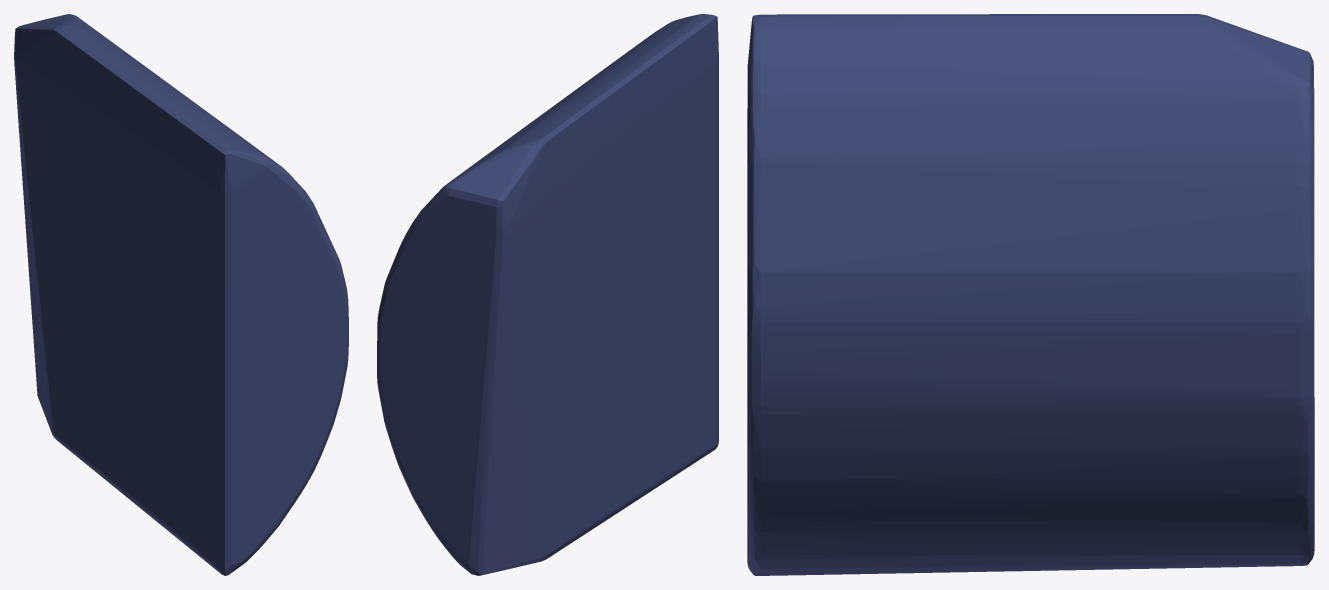
The model's file is right_f_proximal_part_16.obj.
3 renders of one model, left to right at view 1: azimuth 30°, elevation 25°; view 2: azimuth 150°, elevation 25°; view 3: azimuth 270°, elevation 25°, orthographic. The views are drawn at different scales.
Size of the model in its own units: 5.26 by 16.62 by 15.25.
